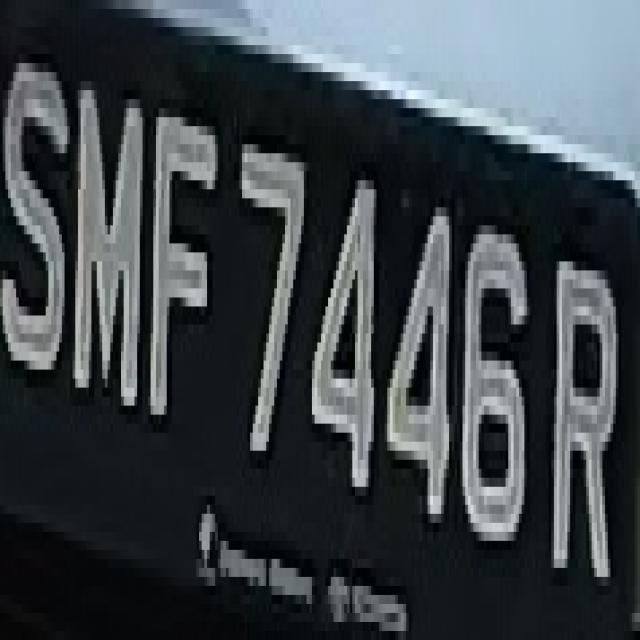4: (306, 126, 384, 541), (382, 153, 454, 559)
6: (457, 198, 535, 568)
7: (226, 117, 312, 532)
F: (148, 90, 218, 469)
M: (70, 36, 148, 424)
R: (549, 207, 613, 622)
S: (5, 0, 68, 406)
